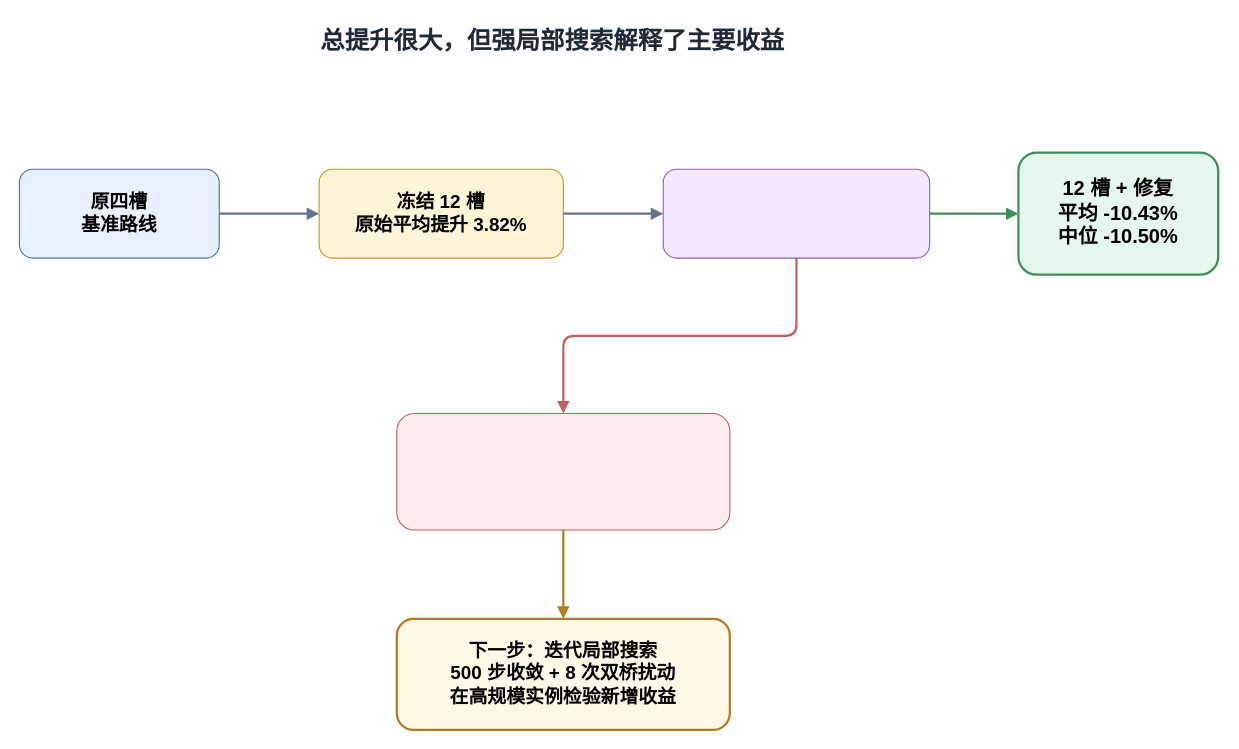
Some shapes in this 1239 by 749 pixel diagram are drawn without their labels. Each missing label, with the centre of its shape:
40 近邻 + 最多 100 步 严格降成本 2-opt: the point at 796,213
若四槽也使用同一修复 12 槽仅剩平均 0.70% 优势 14 胜 / 4 平 / 10 负: the point at 563,471
